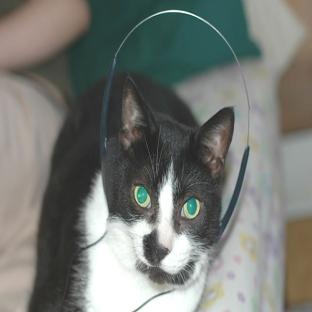Animal: (30, 74, 234, 311)
